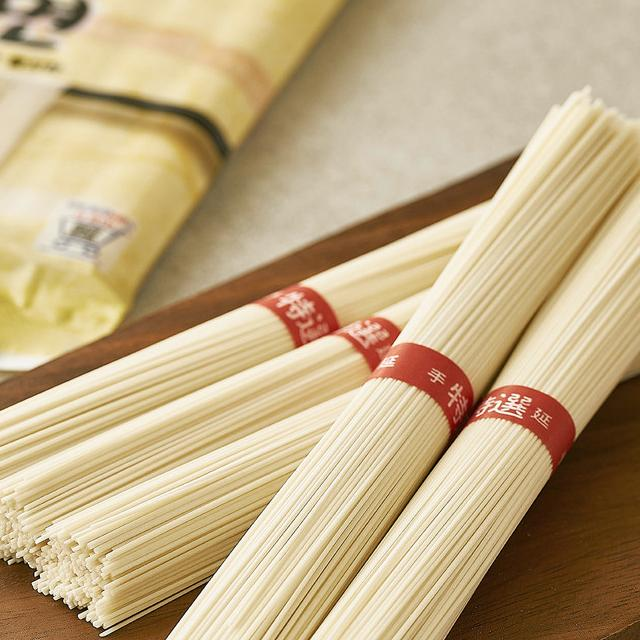noodles: (162, 68, 640, 640)
